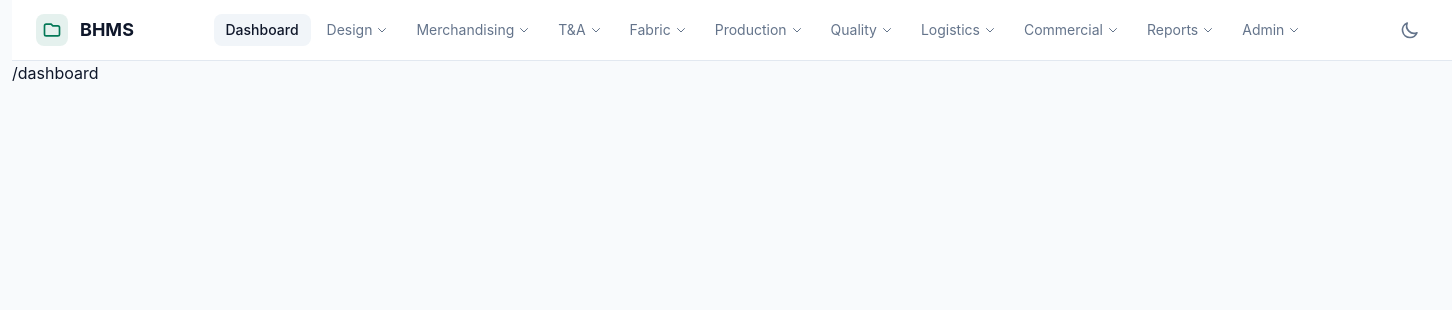
Scenario: Layout shell › opens a module dropdown and shows its screens
The image size is (1452, 310).
Click the button "Design": (357, 30) [314,14,400,46]
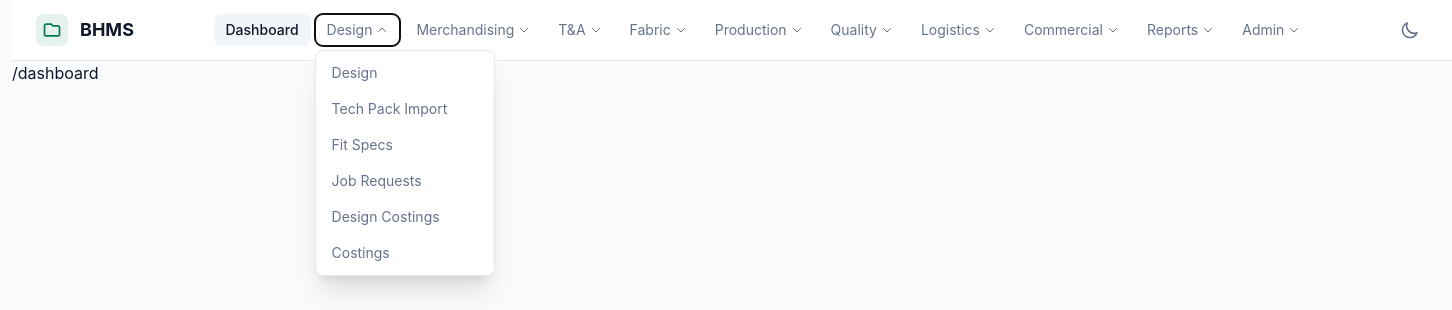
expect the button "Tech Pack Import" is shown: met, box [316,91,494,127]
expect the button "Fit Specs" is shown: met, box [316,127,494,163]
